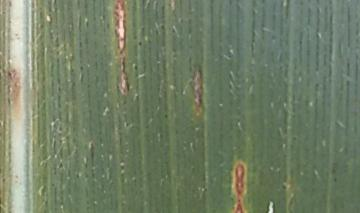tarspot: (134, 37, 148, 51), (161, 110, 173, 122), (130, 62, 142, 73)
